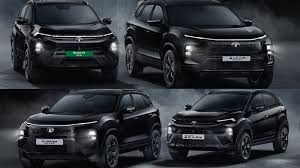Tata Nexon: (125, 1, 273, 87), (16, 87, 162, 164), (5, 1, 121, 82), (165, 88, 290, 163)
